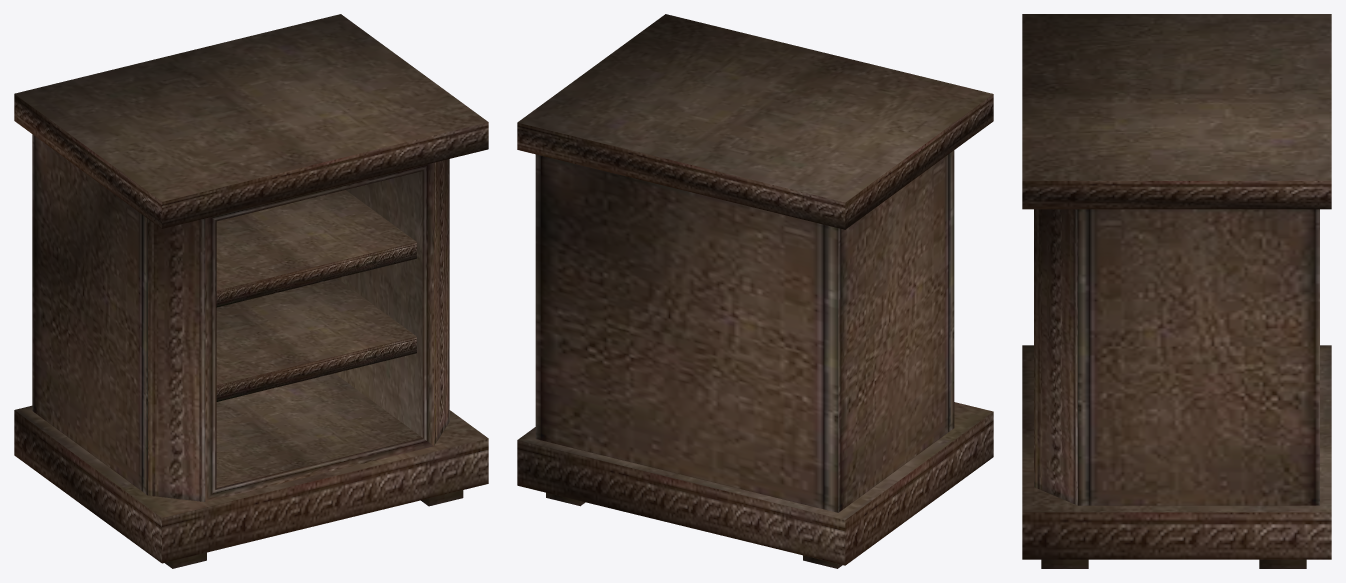
Rendered from GS_VOB_BEDCASE_POOR_02_KOZA.glb.
3 views of the same model, side by side, from view 1: azimuth 30°, elevation 25°; view 2: azimuth 150°, elevation 25°; view 3: azimuth 270°, elevation 25° (orthographic). The views are drawn at different scales.
Parts seen in each view (by area): view 1: Mesh; view 2: Mesh; view 3: Mesh.
Part boxes in pixels (x1,y1,x2,y2): Mesh: (14, 14, 488, 568); Mesh: (517, 14, 993, 568); Mesh: (1022, 14, 1331, 568).
Size of the model in its own units: 0.8159 by 0.9034 by 0.6392.
Materials: 2 (2 with a texture image).
